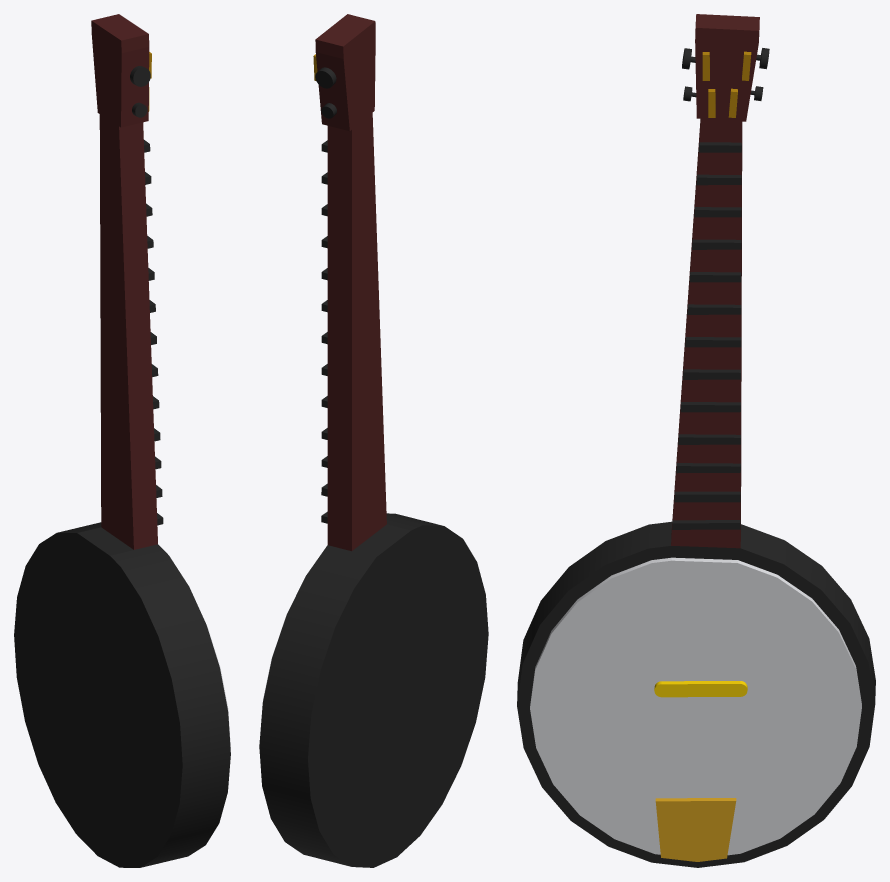
Rendered from Banjo.fbx.
The picture shows the model from 3 angles, left to right: view 1: azimuth 30°, elevation 25°; view 2: azimuth 150°, elevation 25°; view 3: azimuth 270°, elevation 25°; orthographic projection. The views are drawn at different scales.
Visible parts, largest first — view 1: Model; view 2: Model; view 3: Model.
Part boxes in pixels (x1,y1,x2,y2): Model: (14, 14, 230, 867); Model: (259, 14, 488, 867); Model: (517, 14, 875, 867).
Size of the model in its own units: 2.61 by 32.38 by 12.52.
